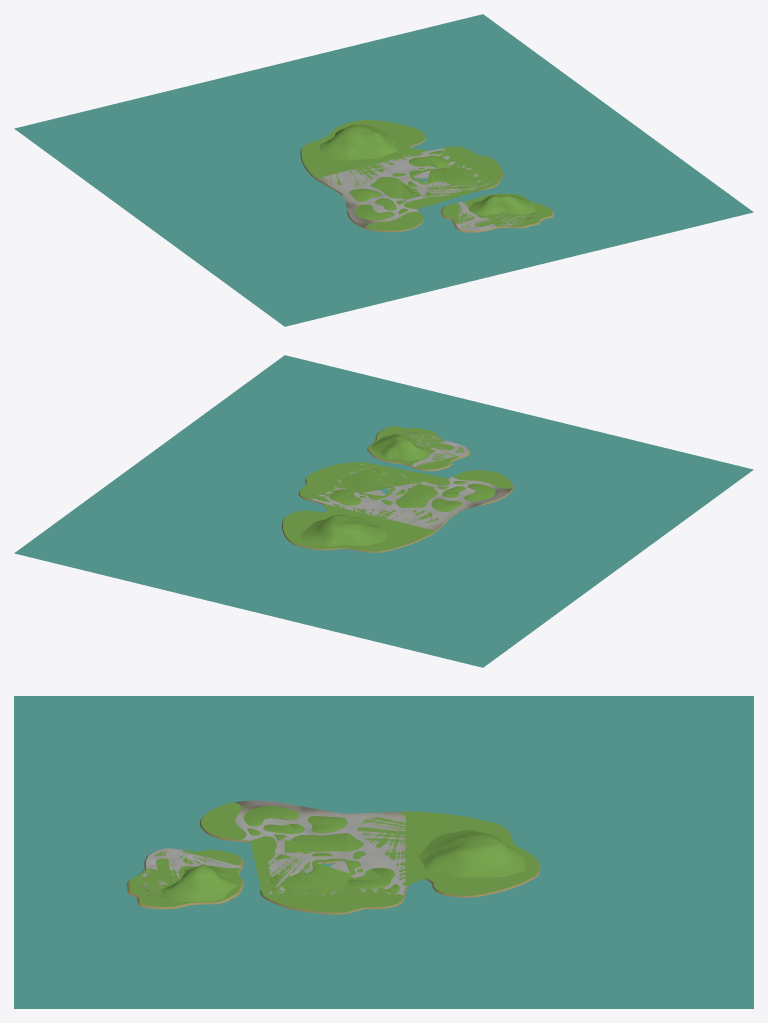
The model's file is site.fbx.
3 views of the same model, one above another, from view 1: azimuth 30°, elevation 25°; view 2: azimuth 150°, elevation 25°; view 3: azimuth 270°, elevation 25° (orthographic). The views are drawn at different scales.
Parts seen in each view (by area): view 1: Plane.001, pave.002, green_01, pave.003, pave, Icosphere, BezierCurve.008, Icosphere.001, BezierCurve.001; view 2: Plane.001, pave.002, green_01, pave.003, pave, Icosphere, BezierCurve.008, Icosphere.001, BezierCurve.001, pave.001; view 3: Plane.001, pave.002, pave.003, green_01, pave, Icosphere, BezierCurve.008, Icosphere.001, BezierCurve.001, pave.001, BezierCurve.003.
Boxes of the visible parts, x1,y1,x2,y2 form: Plane.001: [14, 14, 753, 326]; pave.002: [317, 148, 490, 227]; green_01: [349, 150, 485, 220]; pave.003: [301, 120, 427, 185]; pave: [365, 146, 502, 230]; Icosphere: [320, 124, 397, 160]; BezierCurve.008: [442, 193, 551, 229]; Icosphere.001: [468, 194, 535, 215]; BezierCurve.001: [456, 202, 538, 230]; Plane.001: [14, 355, 753, 667]; pave.002: [311, 464, 511, 530]; green_01: [316, 465, 495, 511]; pave.003: [283, 503, 438, 551]; pave: [299, 462, 512, 499]; Icosphere: [301, 514, 387, 546]; BezierCurve.008: [368, 426, 464, 469]; Icosphere.001: [371, 434, 428, 460]; BezierCurve.001: [399, 431, 468, 466]; pave.001: [282, 477, 513, 552]; Plane.001: [14, 696, 753, 1008]; pave.002: [235, 800, 405, 895]; pave.003: [357, 811, 539, 895]; green_01: [243, 806, 399, 893]; pave: [201, 802, 403, 912]; Icosphere: [417, 829, 524, 877]; BezierCurve.008: [129, 849, 241, 906]; Icosphere.001: [161, 864, 237, 901]; BezierCurve.001: [137, 848, 240, 896]; pave.001: [199, 816, 540, 914]; BezierCurve.003: [126, 850, 243, 909].
Bounding box in the file's own units: 50000 × 1640 × 50000.
